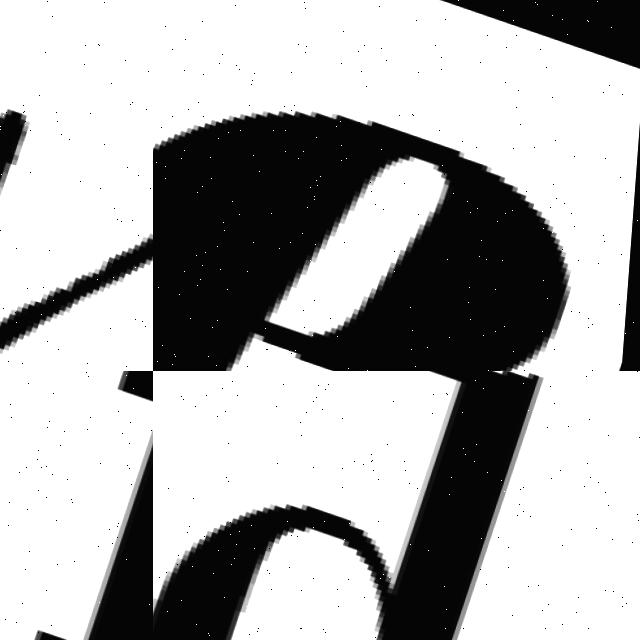D: (153, 371, 596, 640)
E: (153, 105, 576, 371)
I: (9, 371, 153, 640)
W: (0, 0, 153, 371)
